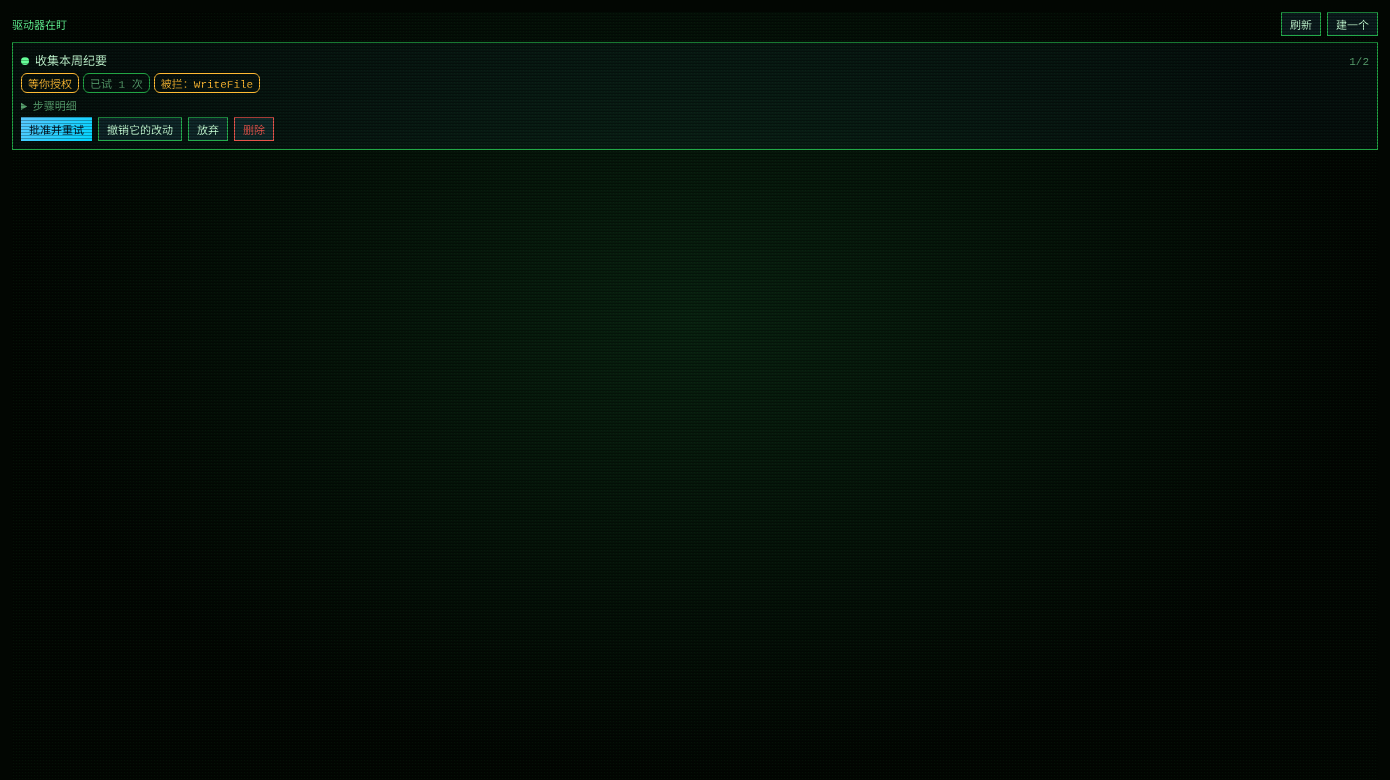
Test: SpineTaskPanel · 跨会话目标 › 删除走两拍：第一拍的影响面挂成确认卡，确认后才带 confirm 重发
The image size is (1390, 780).
Click the button "删除".
click(254, 129)  # box x1=234 y1=117 x2=274 y2=141
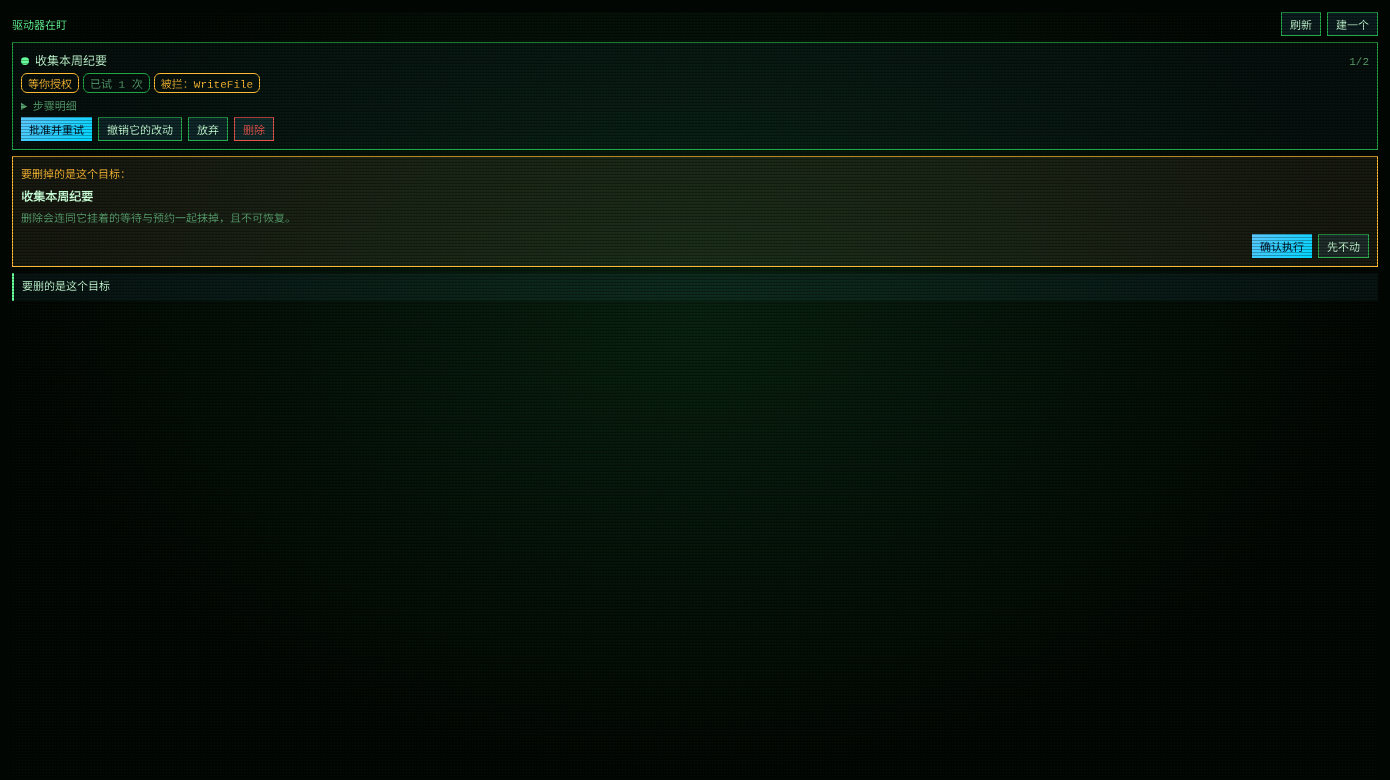
expect the element with test id "spine-confirm" shows "要删掉的是这个目标": met, box x1=21 y1=169 x2=131 y2=181
Click the button with test id "spine-confirm-do".
click(1282, 246)  # box x1=1252 y1=234 x2=1312 y2=258
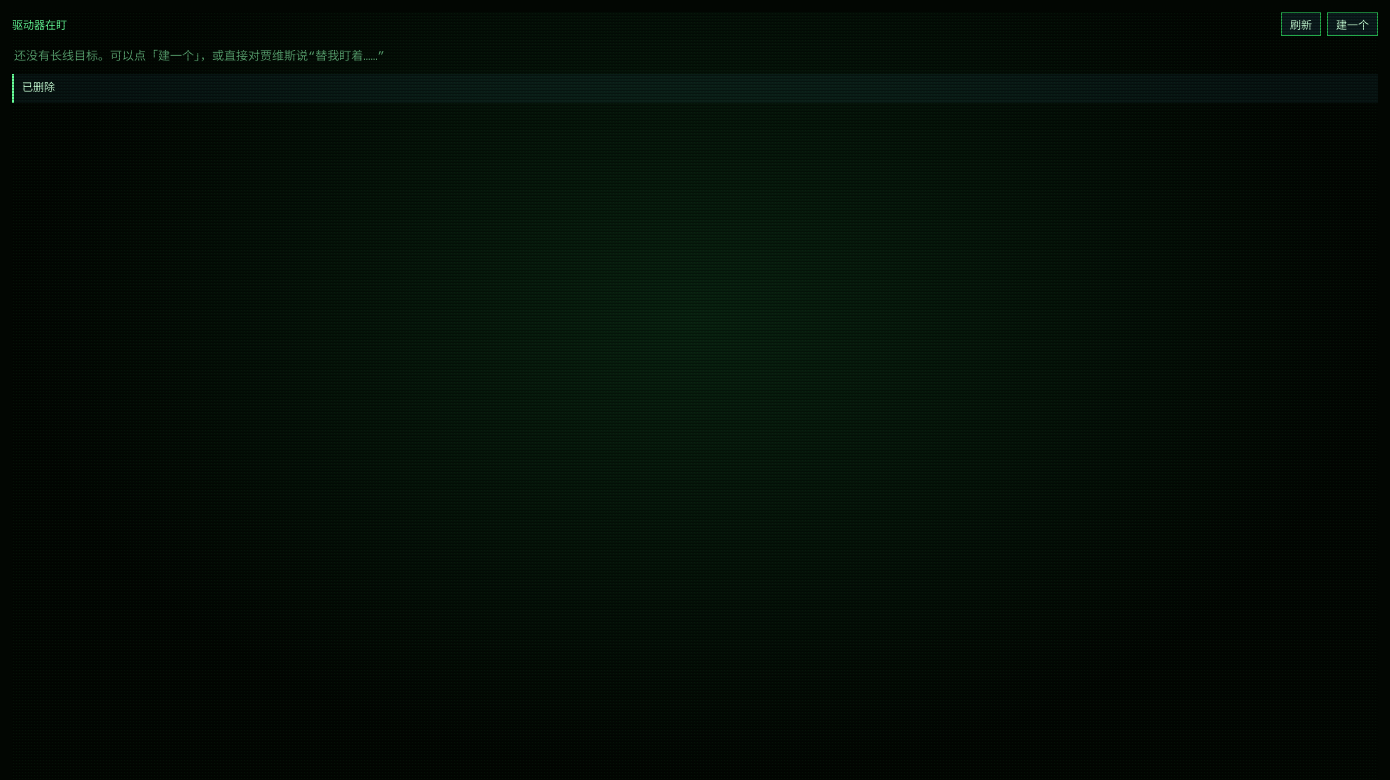
expect the element with test id "spine-confirm" is gone: met
